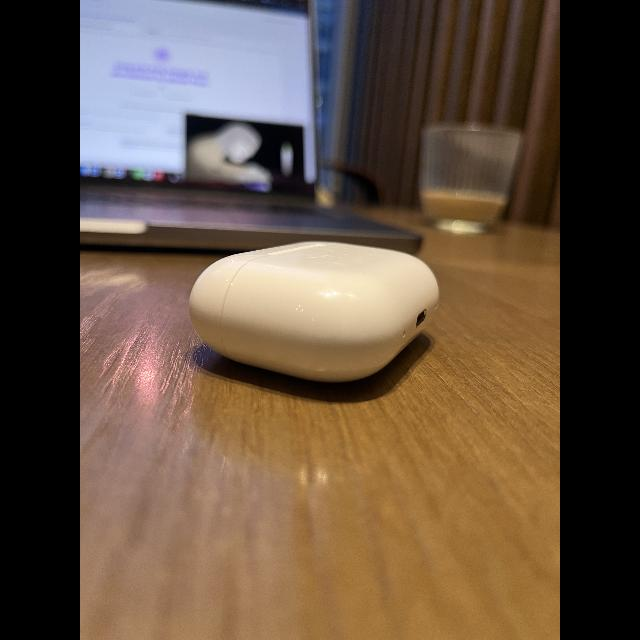AirPods Pro: (182, 234, 444, 396)
